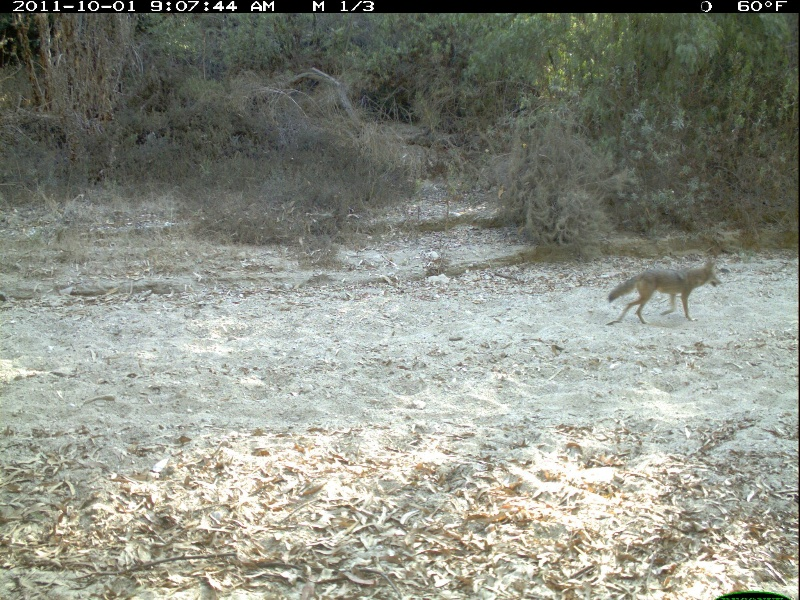coyote: (601, 256, 727, 328)
